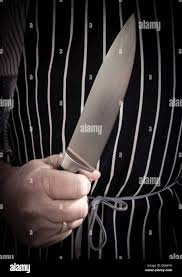knife: (50, 11, 136, 190)
